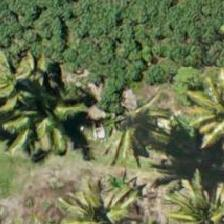coconut_tree: (0, 38, 57, 128), (59, 177, 149, 223)
